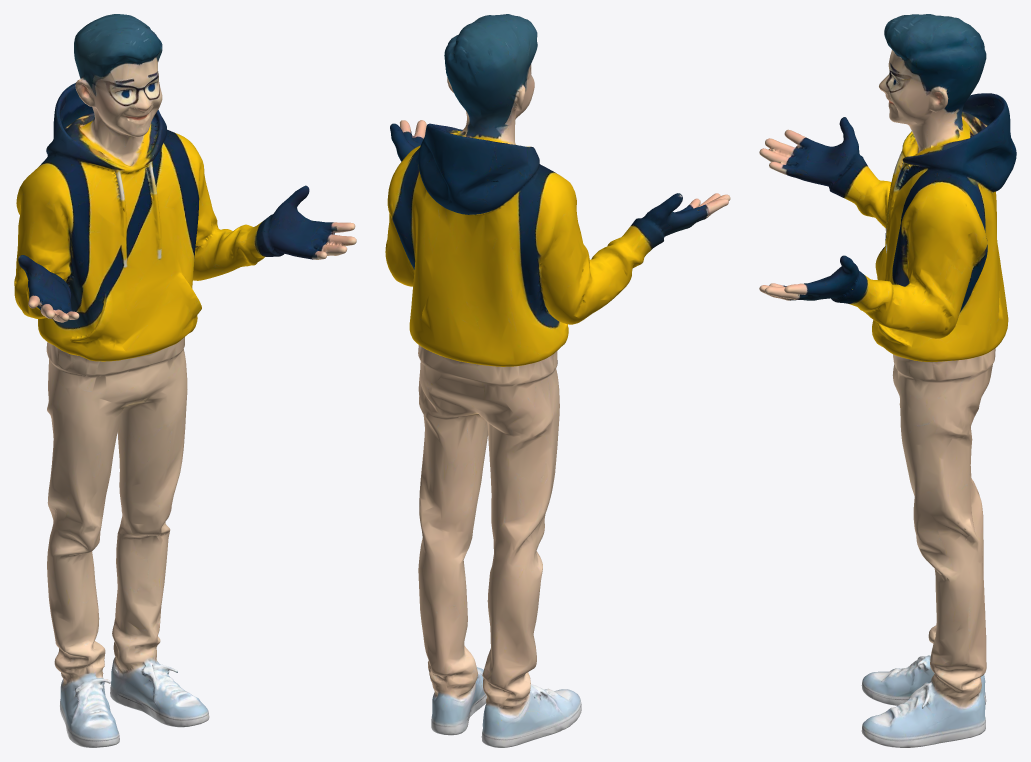
File: hero.glb
3 views of the same model, side by side, from view 1: azimuth 30°, elevation 25°; view 2: azimuth 150°, elevation 25°; view 3: azimuth 270°, elevation 25° (orthographic).
Visible parts, largest first — view 1: Mesh_0; view 2: Mesh_0; view 3: Mesh_0.
Part boxes in pixels (x1=…): Mesh_0: x1=14, y1=14, x2=356, y2=747; Mesh_0: x1=385, y1=14, x2=730, y2=747; Mesh_0: x1=759, y1=14, x2=1016, y2=747.
Bounding box in the file's own units: 0.857 × 1.75 × 0.5821.
Materials: 1 (1 with a texture image).
